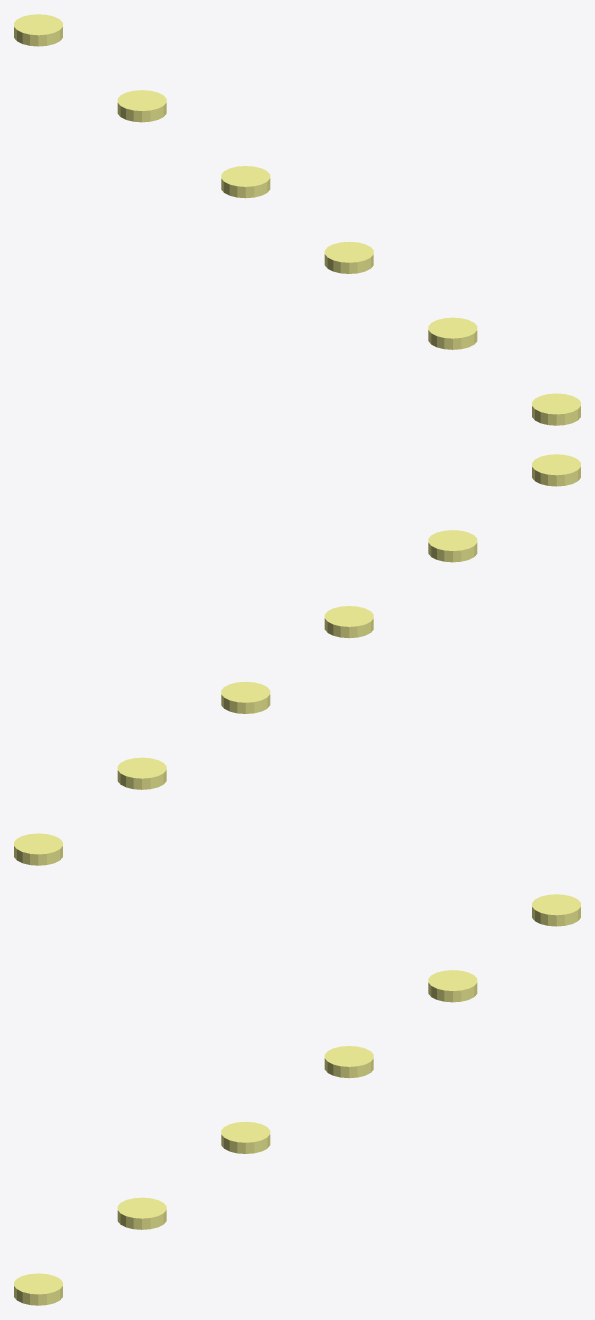
File: marking_raised_marker_yellow.glb
3 views of the same model, one above another, from view 1: azimuth 30°, elevation 25°; view 2: azimuth 150°, elevation 25°; view 3: azimuth 330°, elevation 25° (orthographic).
Parts seen in each view (by area): view 1: marker_1, marker_4, marker_2, marker_3, marker_0, marker_5; view 2: marker_1, marker_4, marker_2, marker_3, marker_0, marker_5; view 3: marker_1, marker_4, marker_2, marker_3, marker_0, marker_5.
Boxes of the visible parts, left/top/right/bottom form: marker_1: left=117, top=90, right=166, bottom=122; marker_4: left=428, top=317, right=477, bottom=349; marker_2: left=221, top=166, right=270, bottom=198; marker_3: left=324, top=241, right=373, bottom=273; marker_0: left=14, top=14, right=62, bottom=46; marker_5: left=532, top=393, right=580, bottom=425; marker_1: left=117, top=757, right=166, bottom=789; marker_4: left=428, top=530, right=477, bottom=562; marker_2: left=221, top=681, right=270, bottom=713; marker_3: left=324, top=606, right=373, bottom=638; marker_0: left=14, top=833, right=62, bottom=865; marker_5: left=532, top=454, right=580, bottom=486; marker_1: left=428, top=970, right=477, bottom=1002; marker_4: left=117, top=1197, right=166, bottom=1229; marker_2: left=324, top=1046, right=373, bottom=1078; marker_3: left=221, top=1121, right=270, bottom=1153; marker_0: left=532, top=894, right=580, bottom=926; marker_5: left=14, top=1273, right=62, bottom=1305.
Bounding box in the file's own units: 0.12 × 0.03 × 2.62.
